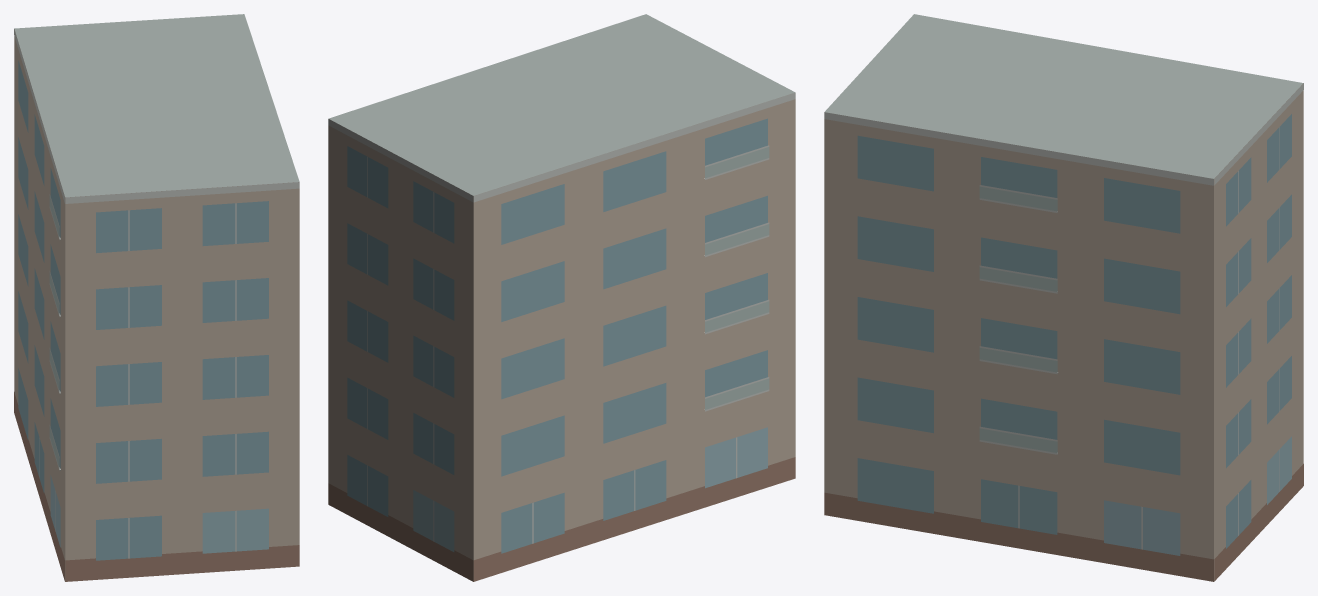
The model's file is survey-upis-32908149.glb.
3 renders of one model, left to right at view 1: azimuth 30°, elevation 25°; view 2: azimuth 150°, elevation 25°; view 3: azimuth 270°, elevation 25°, orthographic. The views are drawn at different scales.
Parts seen in each view (by area): view 1: survey-upis-32908149.tmp; view 2: survey-upis-32908149.tmp; view 3: survey-upis-32908149.tmp.
Boxes of the visible parts, bbox=[...] form: survey-upis-32908149.tmp: bbox=[14, 14, 299, 581]; survey-upis-32908149.tmp: bbox=[328, 14, 795, 581]; survey-upis-32908149.tmp: bbox=[824, 14, 1303, 581].
Size of the model in its own units: 12.47 by 14.2 by 15.32.
